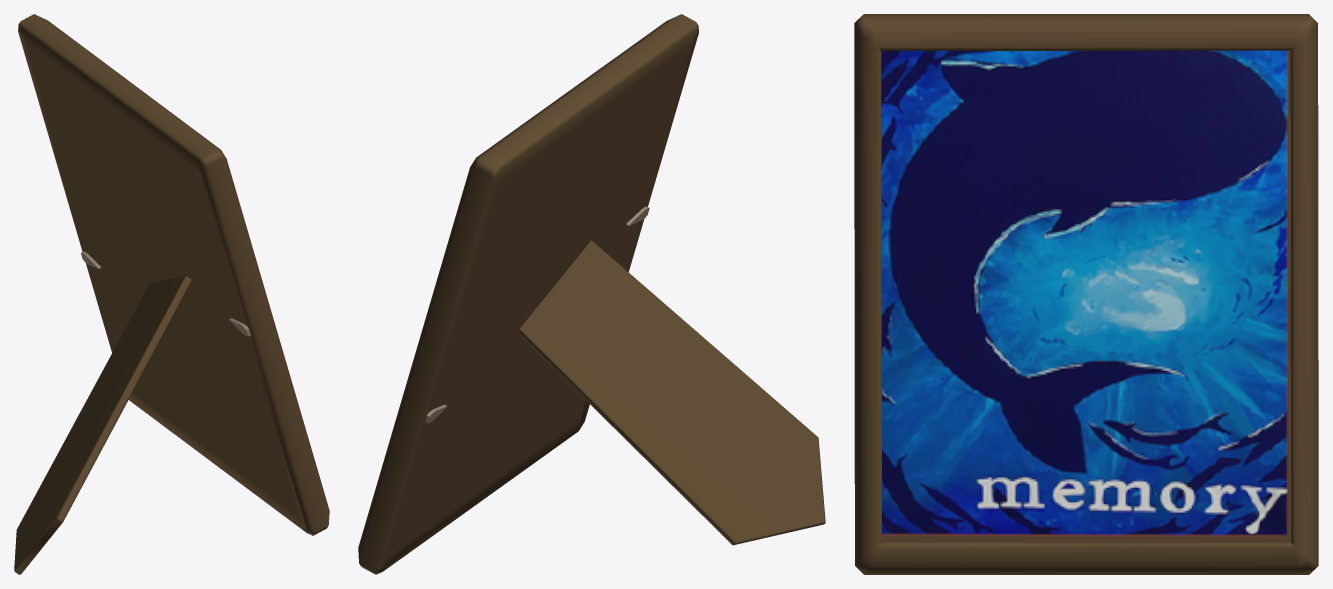
File: PhotoFrame.fbx
3 views of the same model, side by side, from view 1: azimuth 30°, elevation 25°; view 2: azimuth 150°, elevation 25°; view 3: azimuth 270°, elevation 25° (orthographic). The views are drawn at different scales.
Visible parts, largest first — view 1: pCube3; view 2: pCube3; view 3: pCube3.
Part boxes in pixels (x1,y1,x2,y2): pCube3: (14, 14, 329, 574); pCube3: (358, 14, 825, 574); pCube3: (854, 14, 1318, 574).
Size of the model in its own units: 12.82 by 17.65 by 14.91.
Materials: 1 (1 with a texture image).
